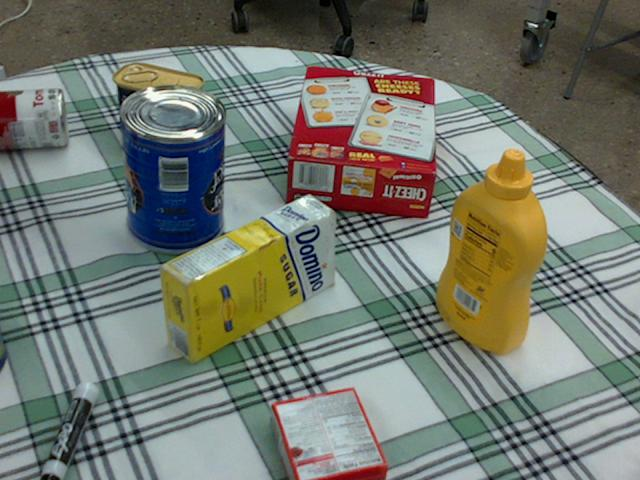cracker_box: (286, 66, 436, 217)
gelatin_box: (269, 388, 385, 479)
large_marker: (36, 382, 97, 479)
master_chef_can: (116, 85, 224, 254)
mustard_bottle: (436, 148, 546, 352)
potted_meat_can: (113, 63, 203, 155)
sugar_box: (158, 195, 334, 363)
tomato_soup_can: (0, 88, 67, 148)
tuna_fish_can: (0, 340, 3, 365)
